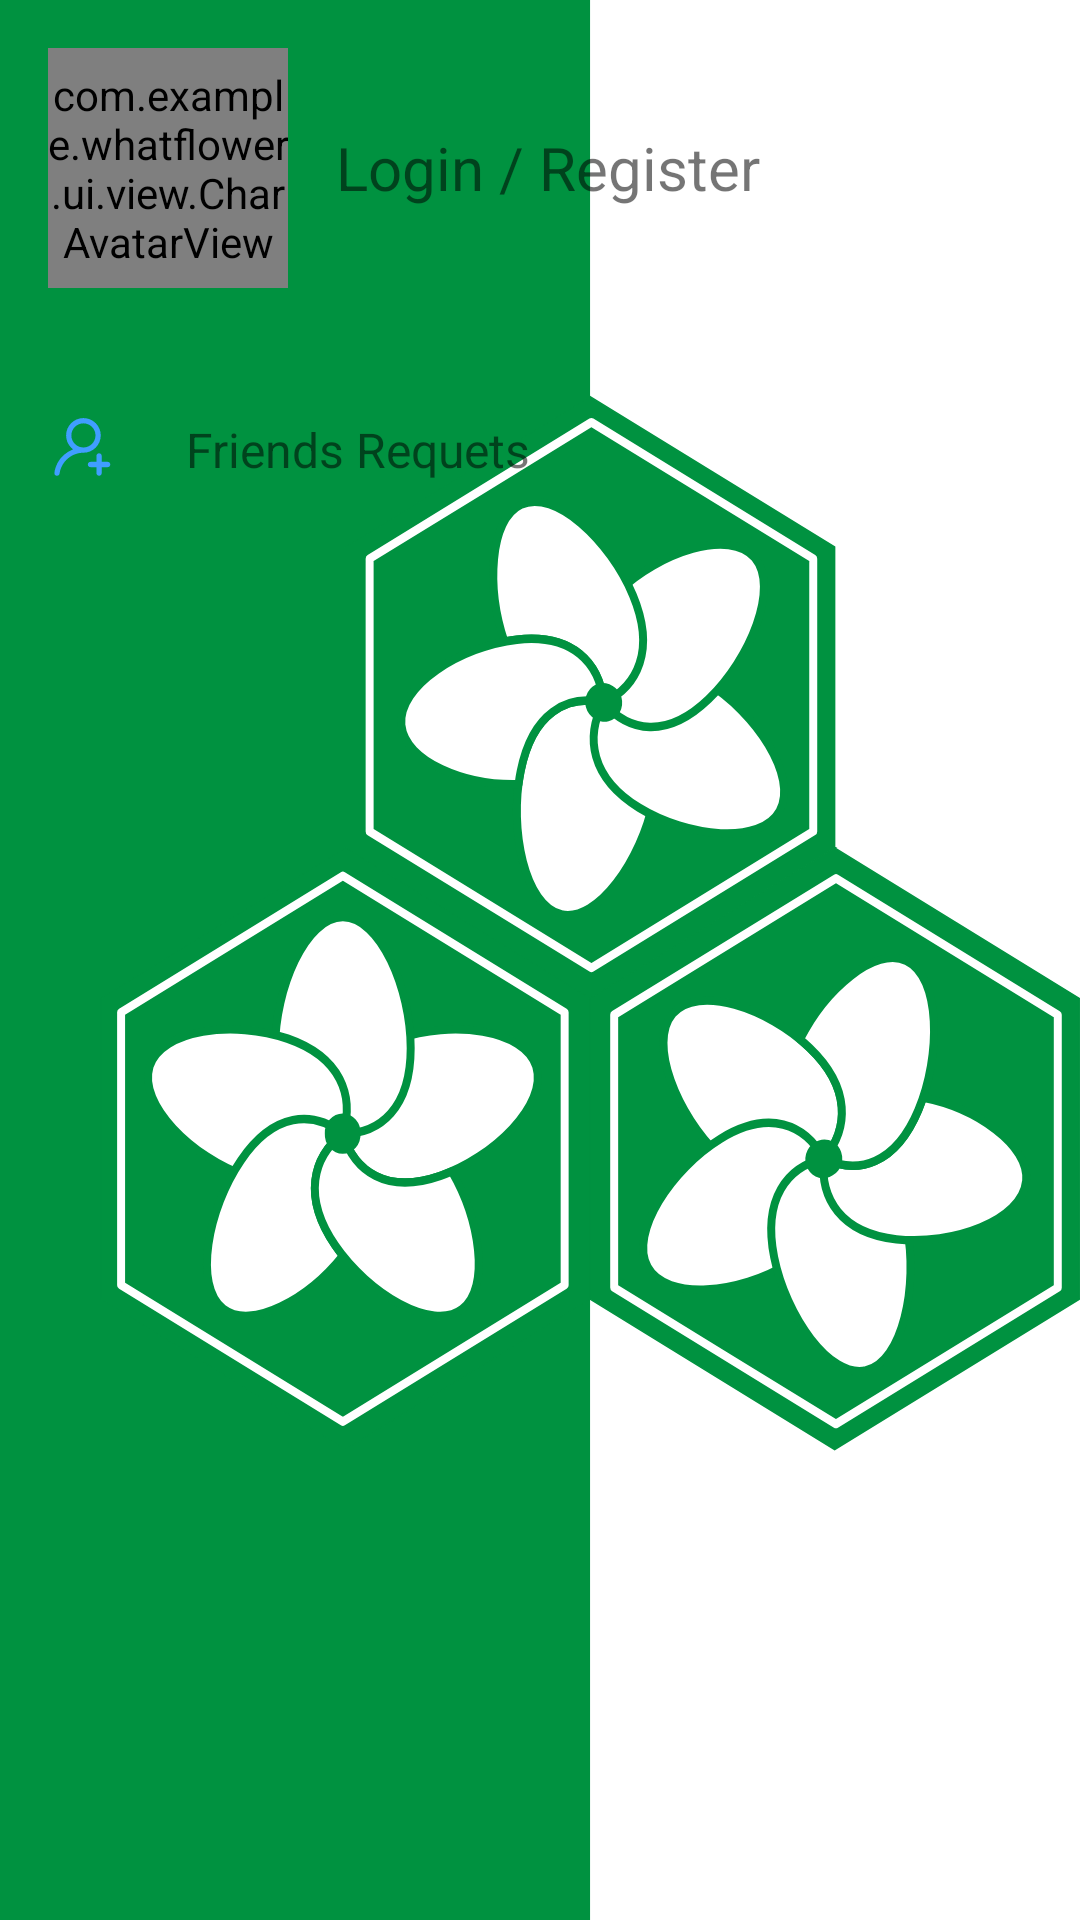

Locate icon controls on the screen. Image size 1080×1920, boxes as (x1, y1, x2, y2).
add user: (54, 418, 111, 476)
